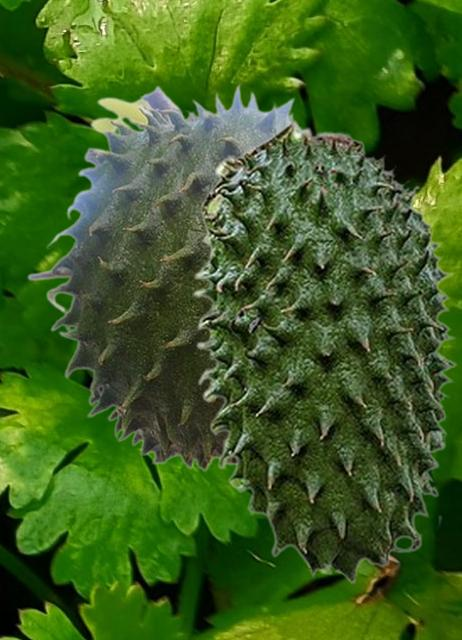guyabano: (192, 118, 457, 583), (26, 81, 297, 472)
